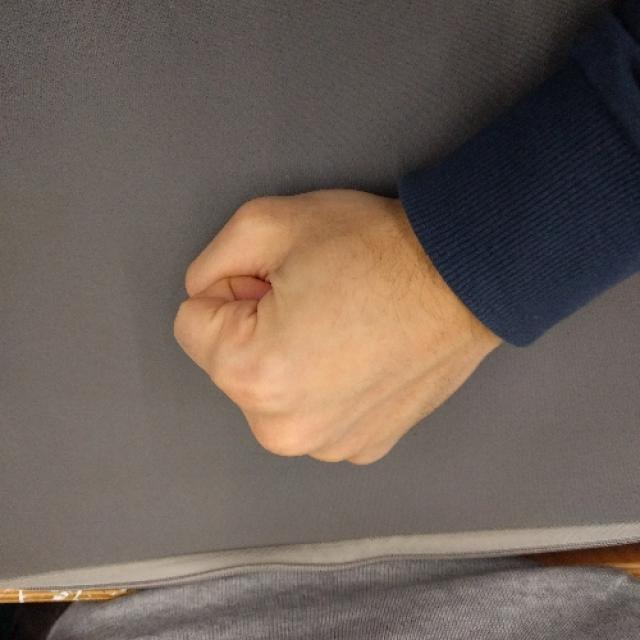rock: (170, 188, 440, 465)
